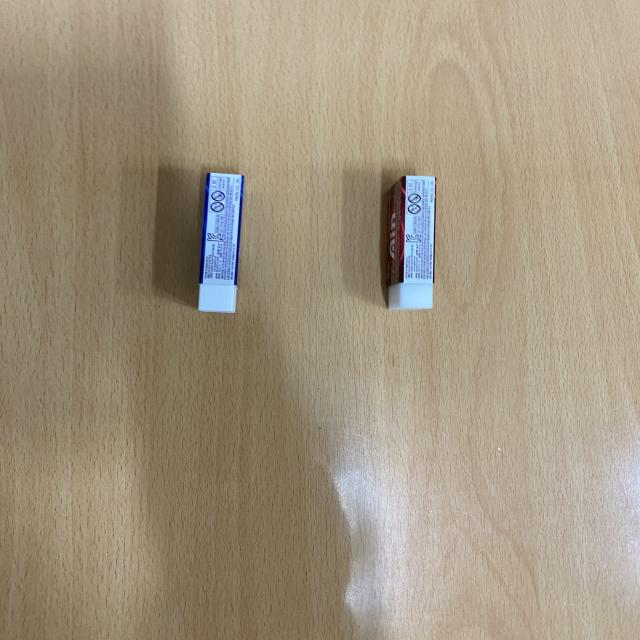blue: (193, 168, 246, 319)
red: (381, 171, 440, 315)
